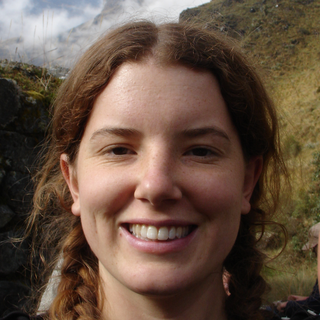eye: (95, 140, 141, 164), (177, 141, 225, 163)
